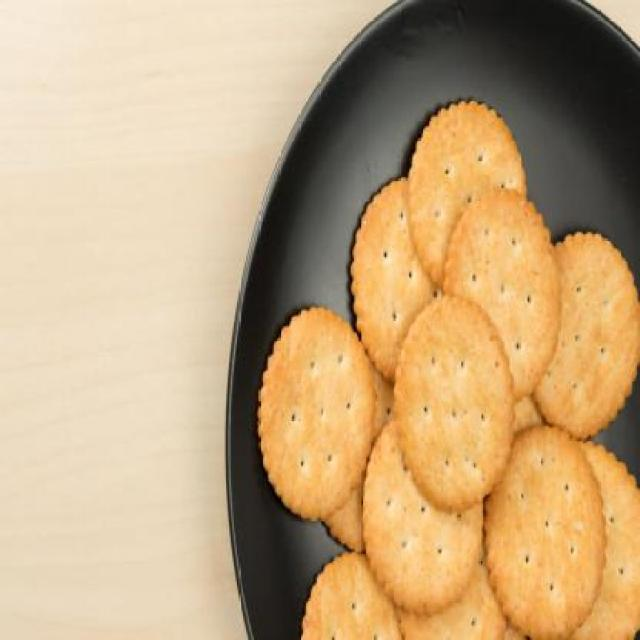Ritz cracker packaged: (247, 91, 640, 639)
